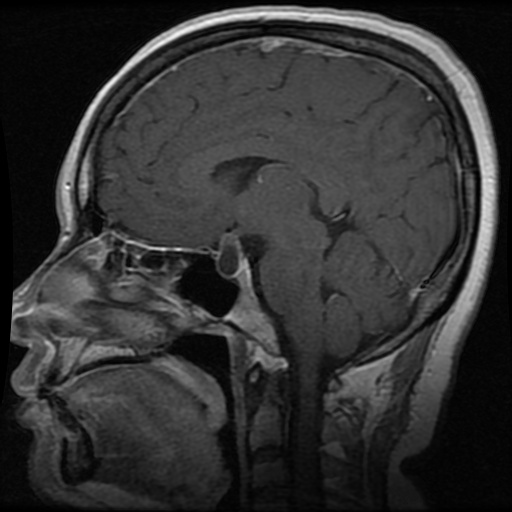pituitary: (215, 231, 247, 277)
